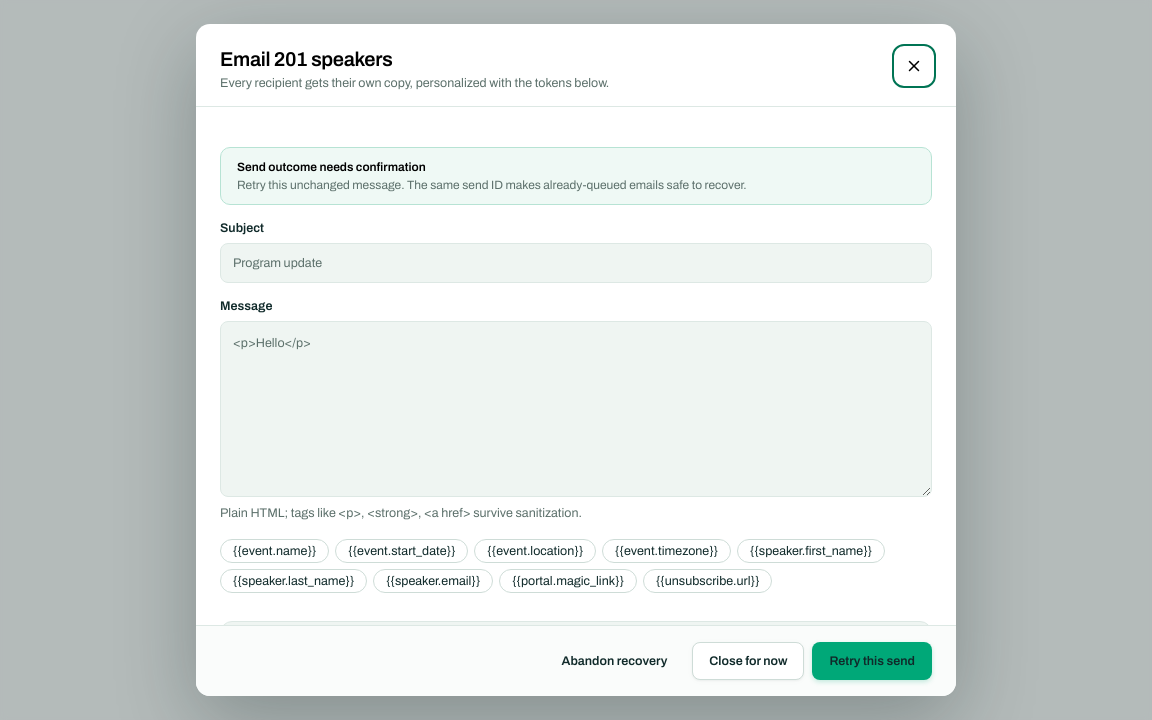
Test: targeted speaker email recovery › resumes a large segment recovery in server-sized chunks
Click the button "Retry this send": (872, 661) [812,642,932,680]
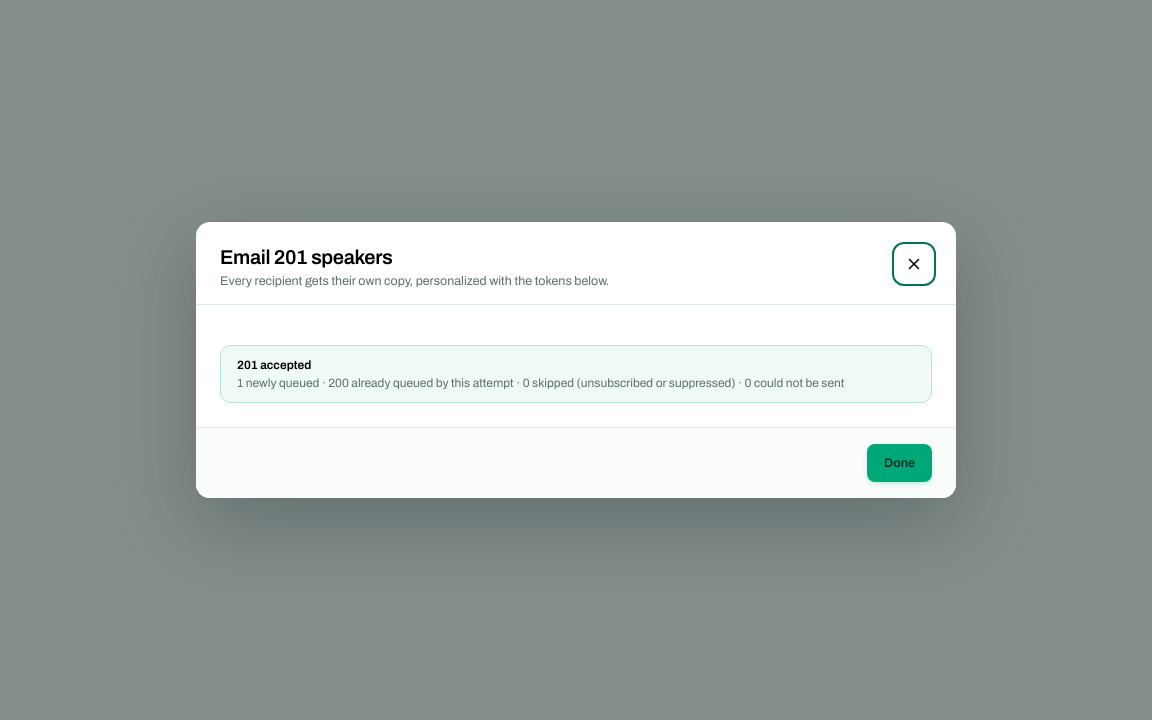
Result: the text "201 accepted" is shown at [237,358,311,372]
